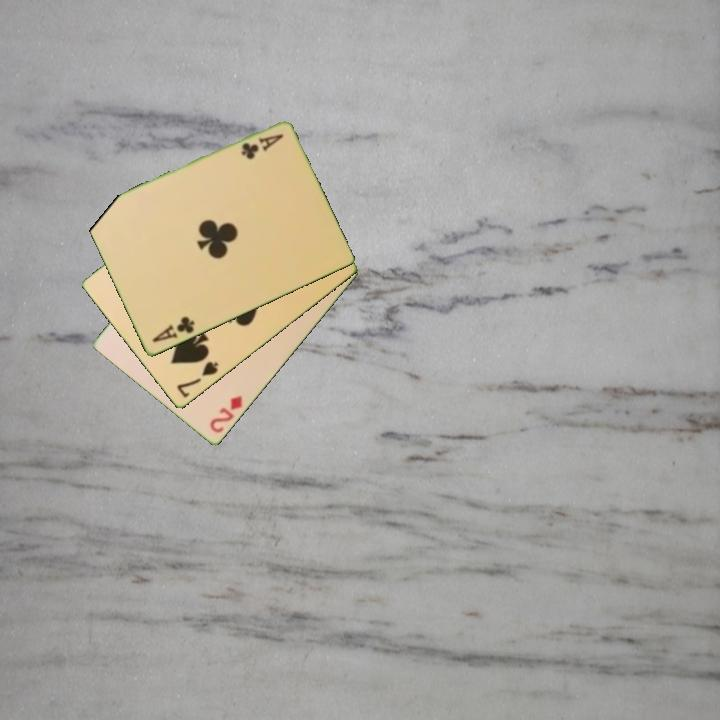2d: (206, 392, 245, 436)
7s: (173, 358, 221, 401)
Ac: (148, 313, 198, 346), (238, 131, 286, 162)
